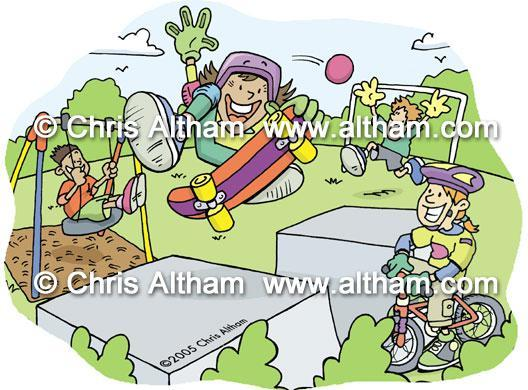bicycle: (365, 261, 516, 375)
person: (132, 12, 321, 205), (401, 159, 483, 366), (342, 76, 452, 185), (50, 141, 152, 221)
